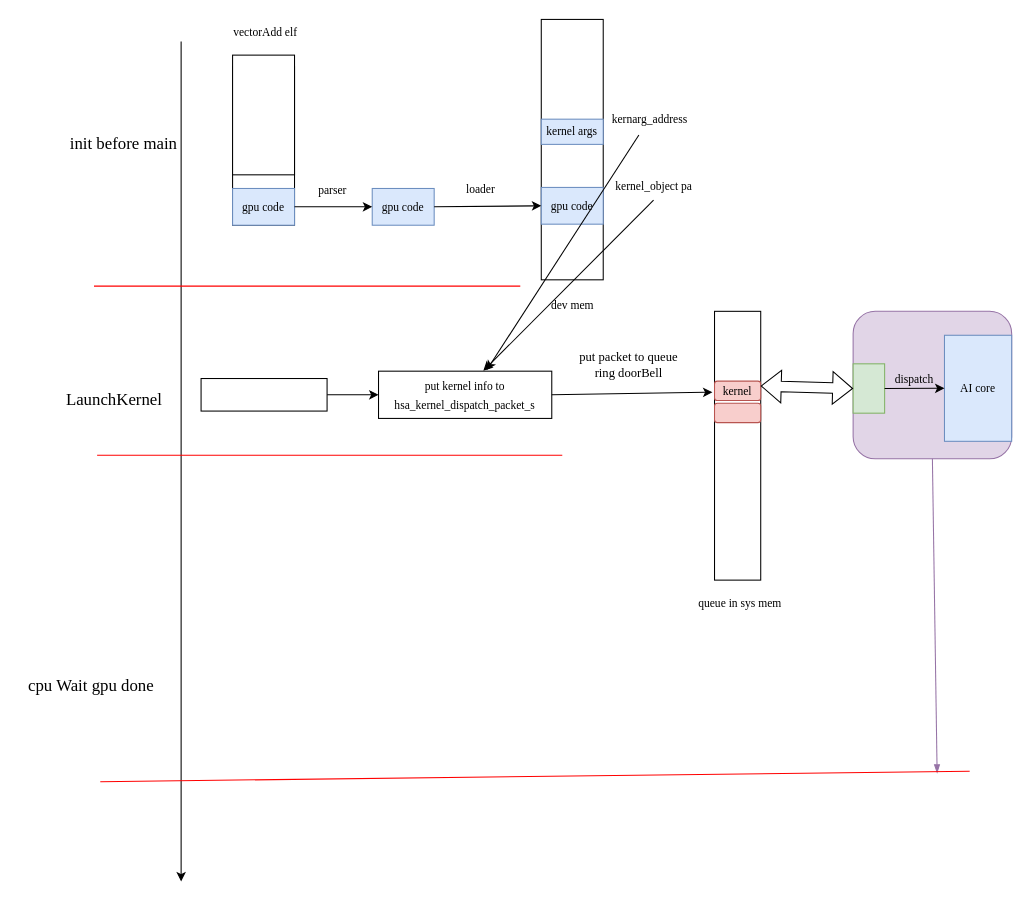
Image size: 1030x908. Some labels were removed from this diagram. Each missing label, with the box of its shape:
copy: (713, 402, 761, 423)
CP: (852, 363, 885, 413)
cpu code: (232, 54, 295, 175)
hipLaunchKernel: (200, 377, 327, 411)
